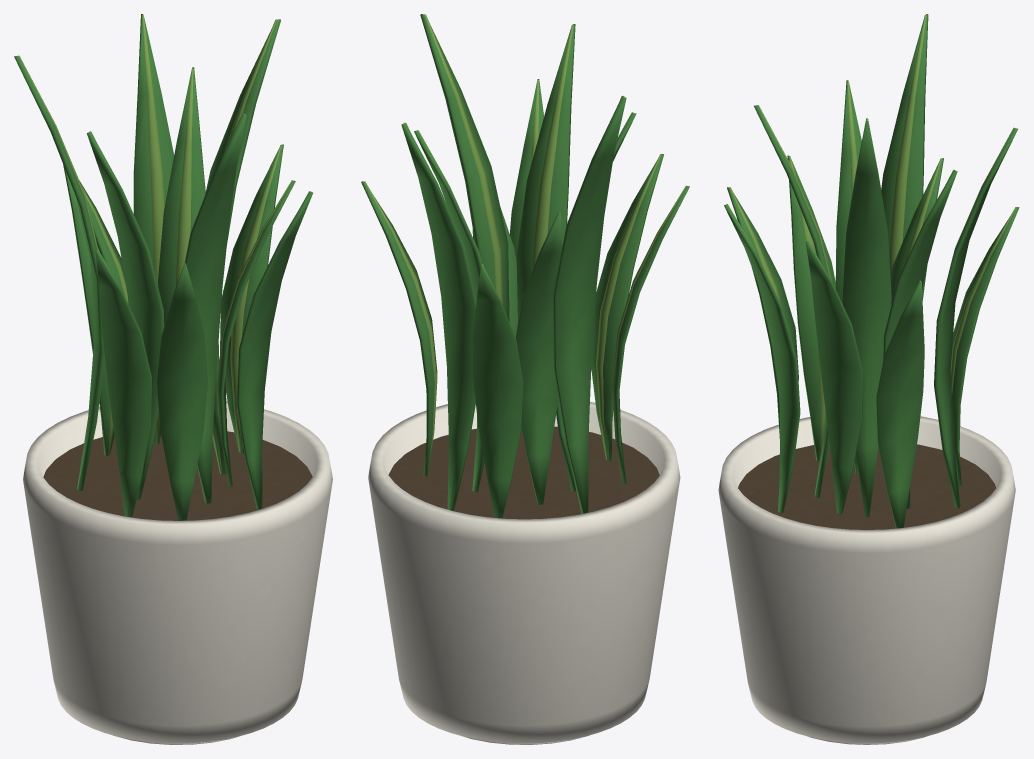
The model's file is snake.glb.
The picture shows the model from 3 angles, left to right: view 1: azimuth 30°, elevation 25°; view 2: azimuth 150°, elevation 25°; view 3: azimuth 270°, elevation 25°; orthographic projection. The views are drawn at different scales.
Parts seen in each view (by area): view 1: Plain ceramic planter, Upright variegated sword leaves, Soil surface, Pale leaf central stripes; view 2: Plain ceramic planter, Upright variegated sword leaves, Soil surface, Pale leaf central stripes; view 3: Plain ceramic planter, Upright variegated sword leaves, Soil surface, Pale leaf central stripes.
Part boxes in pixels (left/top/right/bottom): Plain ceramic planter: left=23, top=401, right=332, bottom=743; Upright variegated sword leaves: left=14, top=14, right=312, bottom=520; Soil surface: left=43, top=431, right=312, bottom=520; Pale leaf central stripes: left=14, top=14, right=310, bottom=489; Plain ceramic planter: left=368, top=402, right=680, bottom=743; Upright variegated sword leaves: left=361, top=14, right=689, bottom=518; Soil surface: left=388, top=426, right=659, bottom=519; Pale leaf central stripes: left=362, top=14, right=686, bottom=488; Plain ceramic planter: left=718, top=416, right=1015, bottom=743; Upright variegated sword leaves: left=724, top=14, right=1019, bottom=528; Soil surface: left=738, top=444, right=995, bottom=529; Pale leaf central stripes: left=727, top=14, right=1018, bottom=506.
Size of the model in its own units: 0.4 by 0.9351 by 0.405.
Materials: 4 (4 with a texture image).
